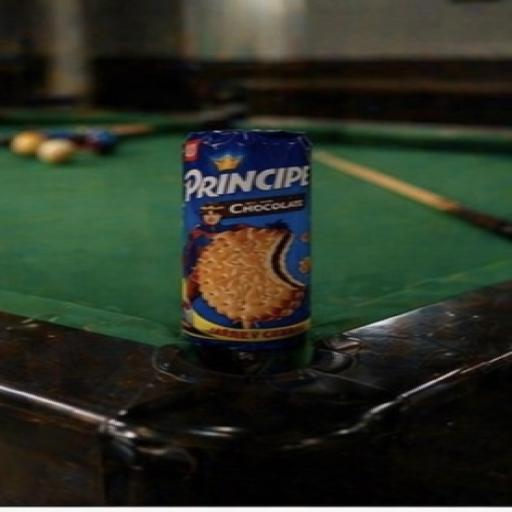prince: (16, 33, 392, 434)
